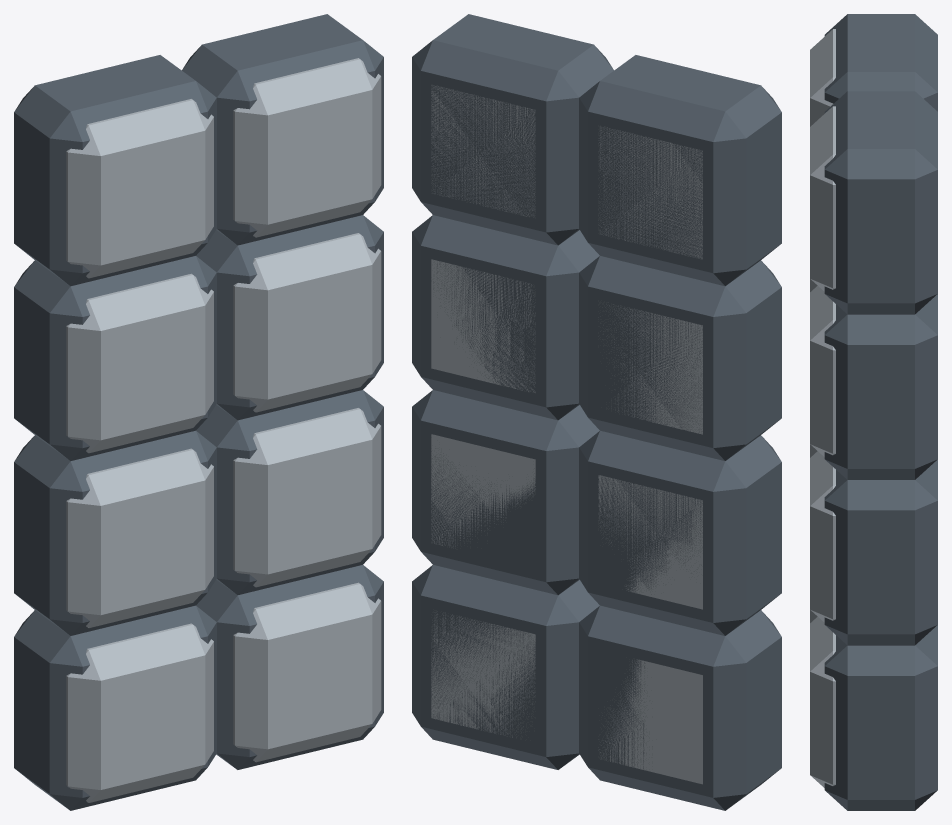
File: Terrain_Block2x4.gltf
3 views of the same model, side by side, from view 1: azimuth 30°, elevation 25°; view 2: azimuth 150°, elevation 25°; view 3: azimuth 270°, elevation 25° (orthographic). The views are drawn at different scales.
Parts seen in each view (by area): view 1: Terrain_Block2x4_baked; view 2: Terrain_Block2x4_baked; view 3: Terrain_Block2x4_baked.
Boxes of the visible parts, box(x1,y1,x2,y2) form: Terrain_Block2x4_baked: box(14, 14, 383, 810); Terrain_Block2x4_baked: box(412, 14, 781, 810); Terrain_Block2x4_baked: box(810, 14, 937, 810).
Bounding box in the file's own units: 2 × 4 × 0.7.
